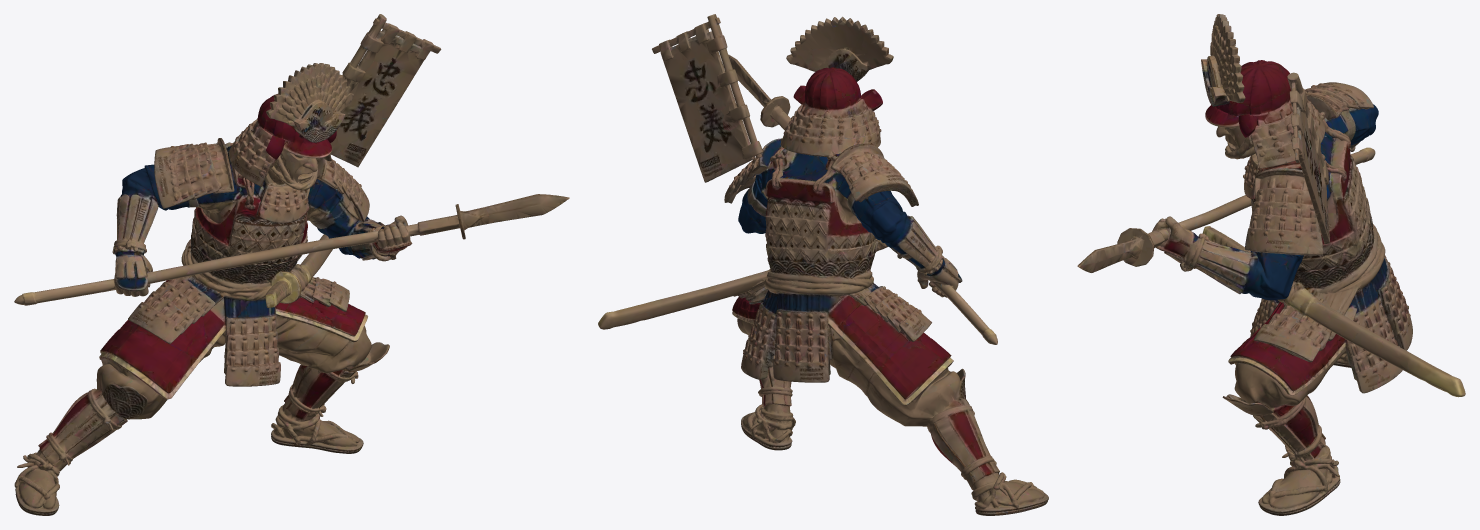
Rendered from Meshy_AI_Cardboard_Samurai_Spe_1021161232_texture.glb.
The picture shows the model from 3 angles, left to right: view 1: azimuth 30°, elevation 25°; view 2: azimuth 150°, elevation 25°; view 3: azimuth 270°, elevation 25°; orthographic projection. The views are drawn at different scales.
Size of the model in its own units: 1.9 by 1.72 by 1.32.
Materials: 1 (1 with a texture image).
